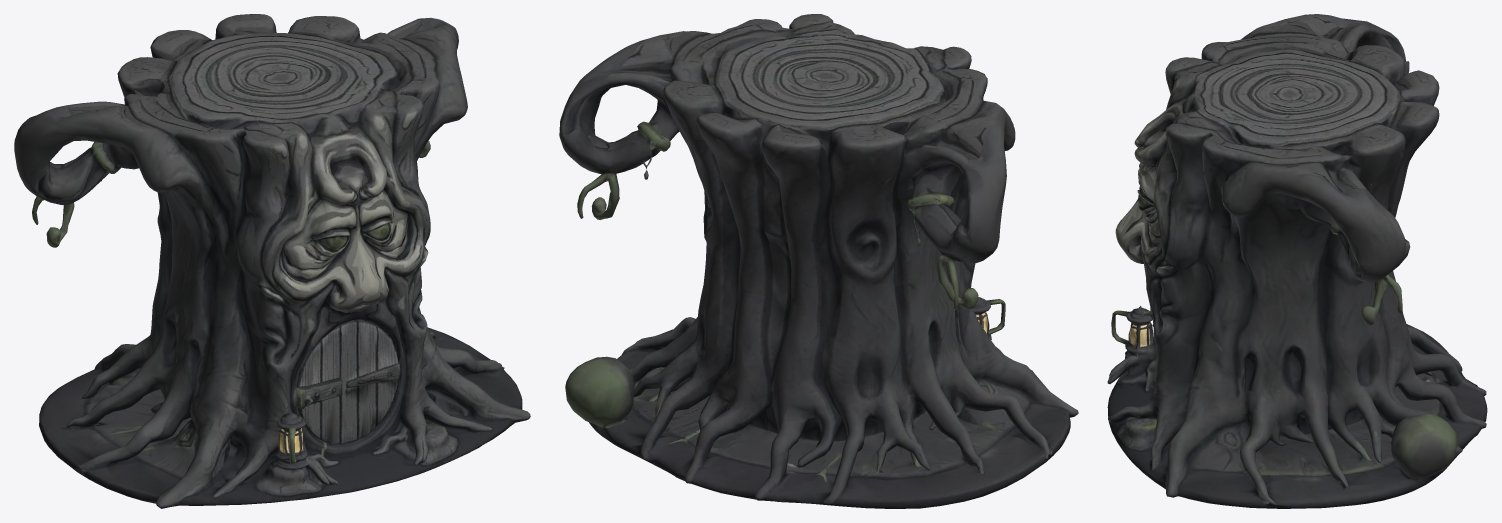
File: face-tree.glb
3 renders of one model, left to right at view 1: azimuth 30°, elevation 25°; view 2: azimuth 150°, elevation 25°; view 3: azimuth 270°, elevation 25°, orthographic. The views are drawn at different scales.
Size of the model in its own units: 1.9 by 1.45 by 1.56.
Materials: 1 (1 with a texture image).
